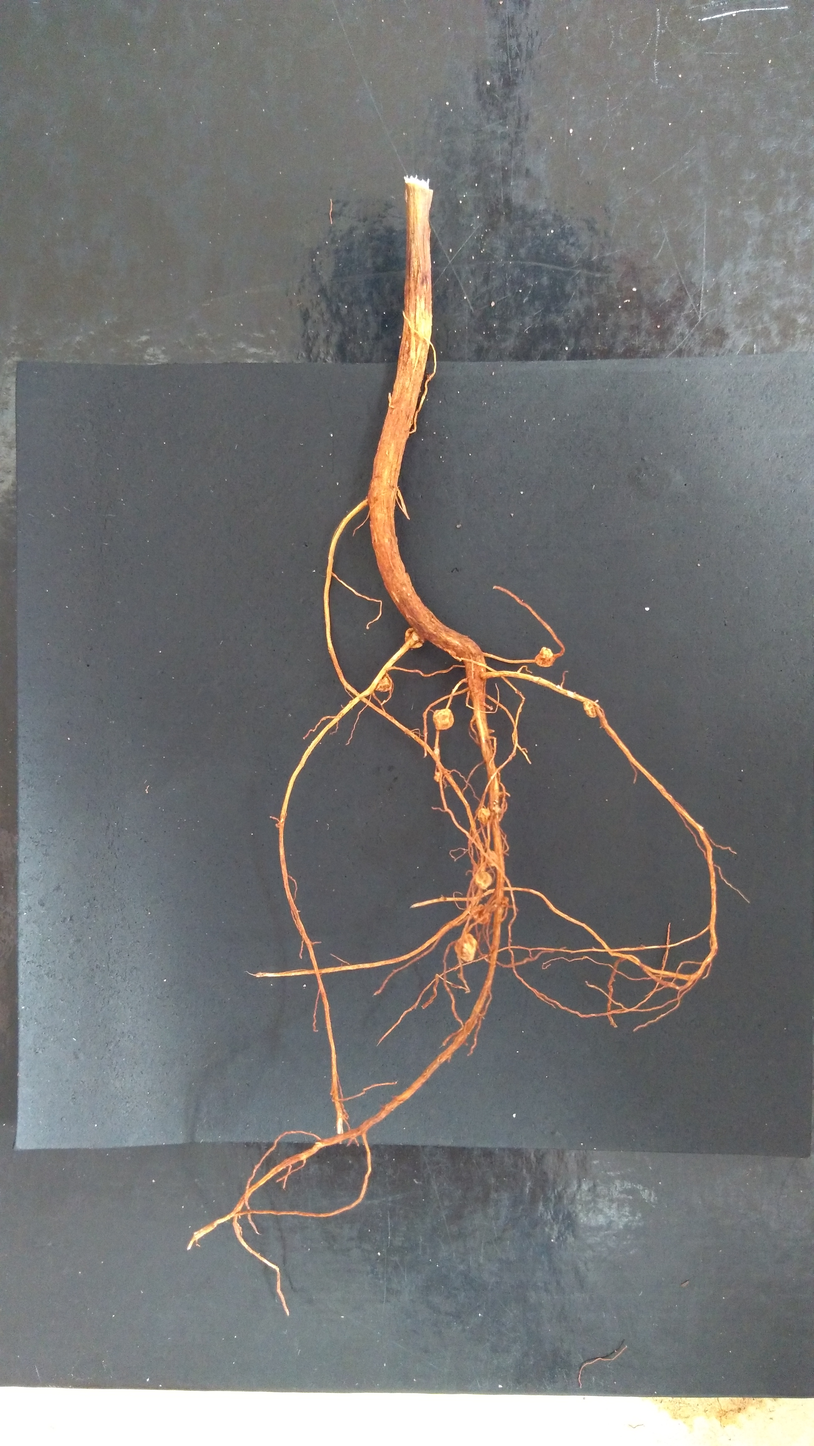nodule: (454, 933, 477, 966), (430, 708, 459, 731), (532, 645, 557, 670), (471, 869, 496, 892), (403, 625, 425, 650), (375, 671, 394, 695), (470, 905, 491, 924), (581, 699, 600, 718), (476, 807, 494, 824)
